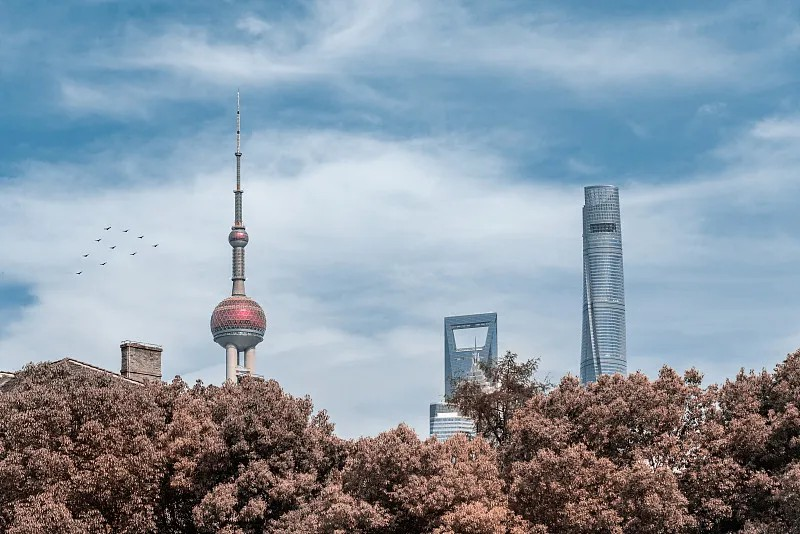Oriental: (210, 90, 267, 383)
